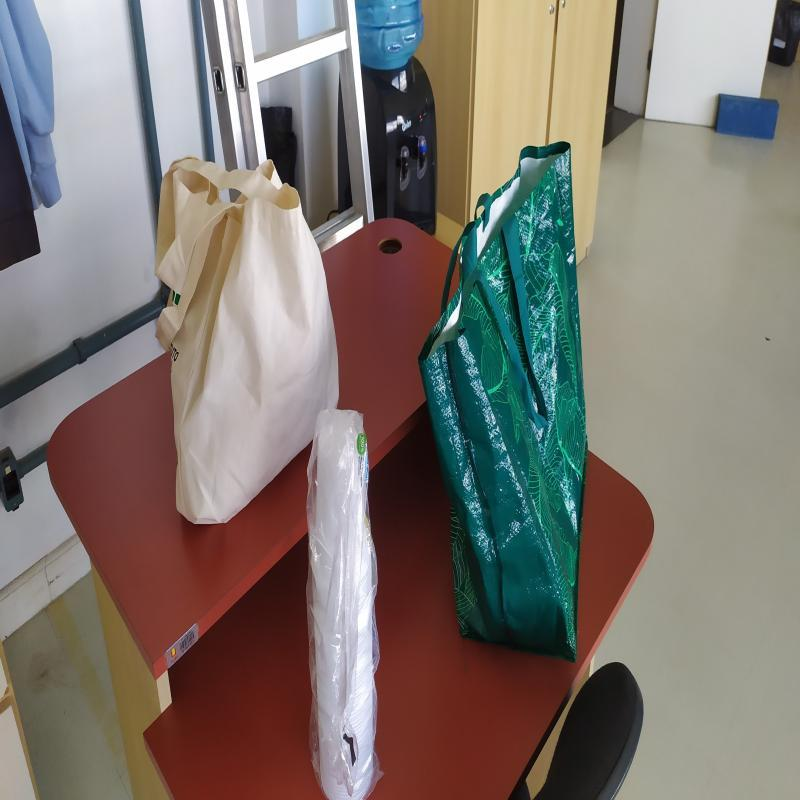Bag: (420, 137, 594, 664), (155, 156, 340, 522)
